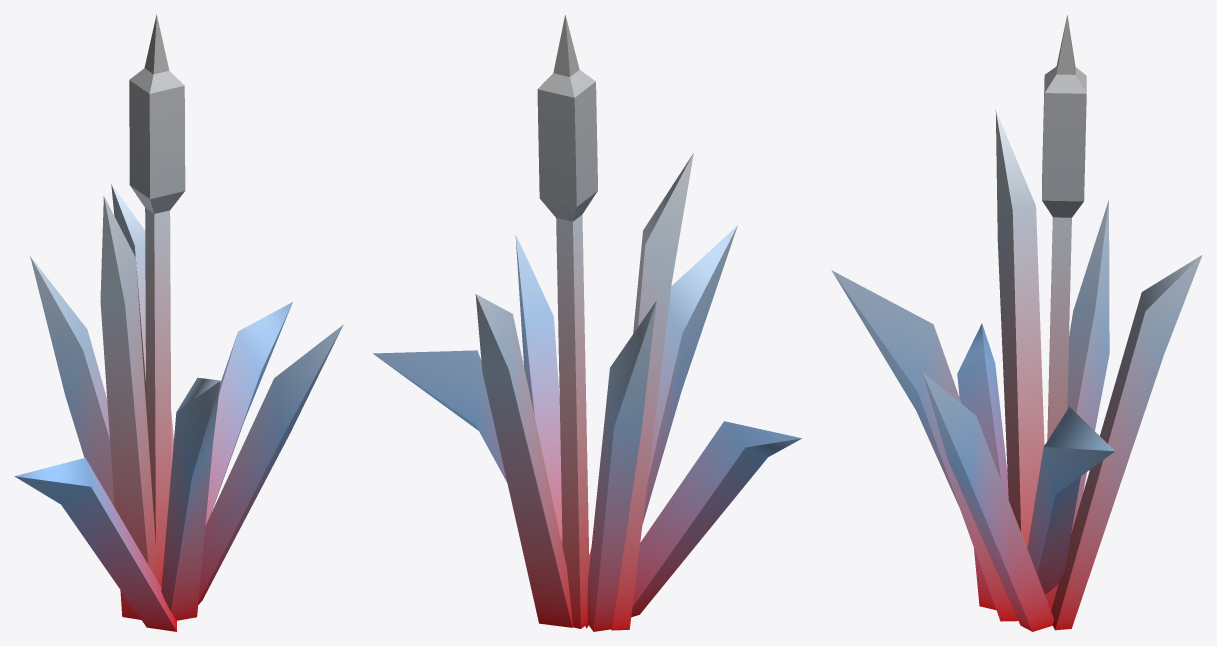
3 renders of one model, left to right at view 1: azimuth 30°, elevation 25°; view 2: azimuth 150°, elevation 25°; view 3: azimuth 270°, elevation 25°, orthographic. The views are drawn at different scales.
Parts seen in each view (by area): view 1: SM_Plant_Reeds_01; view 2: SM_Plant_Reeds_01; view 3: SM_Plant_Reeds_01.
Boxes of the visible parts, <box> form: SM_Plant_Reeds_01: <box>14,14,343,631</box>; SM_Plant_Reeds_01: <box>373,15,801,631</box>; SM_Plant_Reeds_01: <box>831,15,1202,631</box>.
Bounding box in the file's own units: 0.8319 × 1.35 × 0.7516.
Materials: 1 (1 with a texture image).
